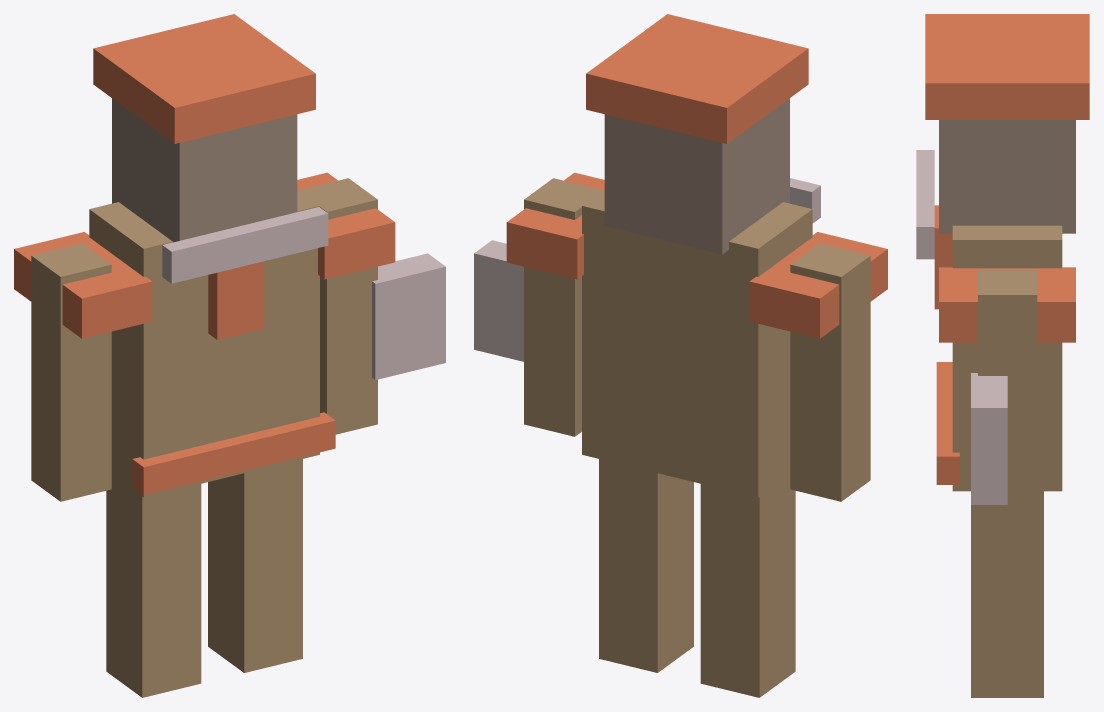
The model's file is 13_brant_skyharrow_marshal_near_echo.glb.
3 renders of one model, left to right at view 1: azimuth 30°, elevation 25°; view 2: azimuth 150°, elevation 25°; view 3: azimuth 270°, elevation 25°, orthographic.
Parts seen in each view (by area): view 1: Brant Skyharrow, Marshal near Echo; view 2: Brant Skyharrow, Marshal near Echo; view 3: Brant Skyharrow, Marshal near Echo.
Part boxes in pixels (x1,y1,x2,y2): Brant Skyharrow, Marshal near Echo: (14, 14, 445, 697); Brant Skyharrow, Marshal near Echo: (474, 14, 887, 697); Brant Skyharrow, Marshal near Echo: (916, 14, 1089, 697).
Bounding box in the file's own units: 1.05 × 1.58 × 0.4074.
